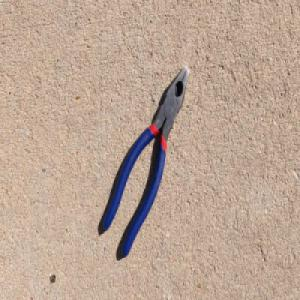Pliers: (99, 62, 190, 263)
